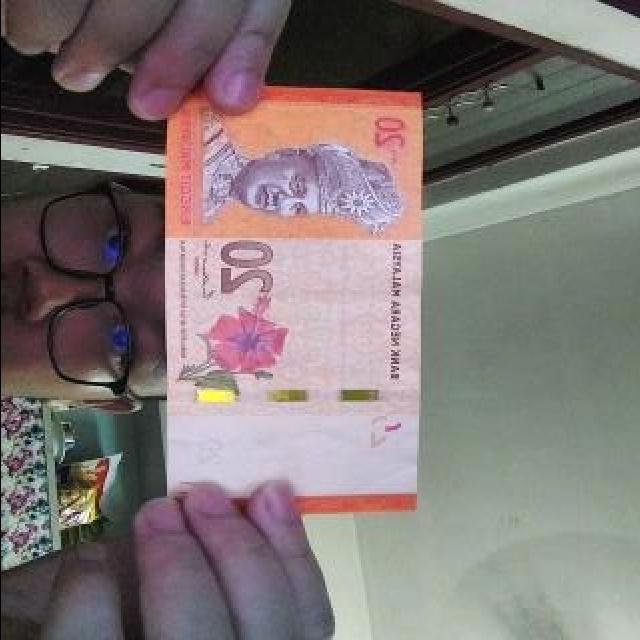20 Ringgit: (165, 92, 422, 521)
